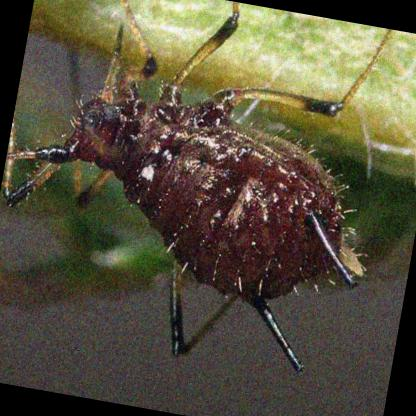uroleucon compositae: (14, 0, 349, 369)
